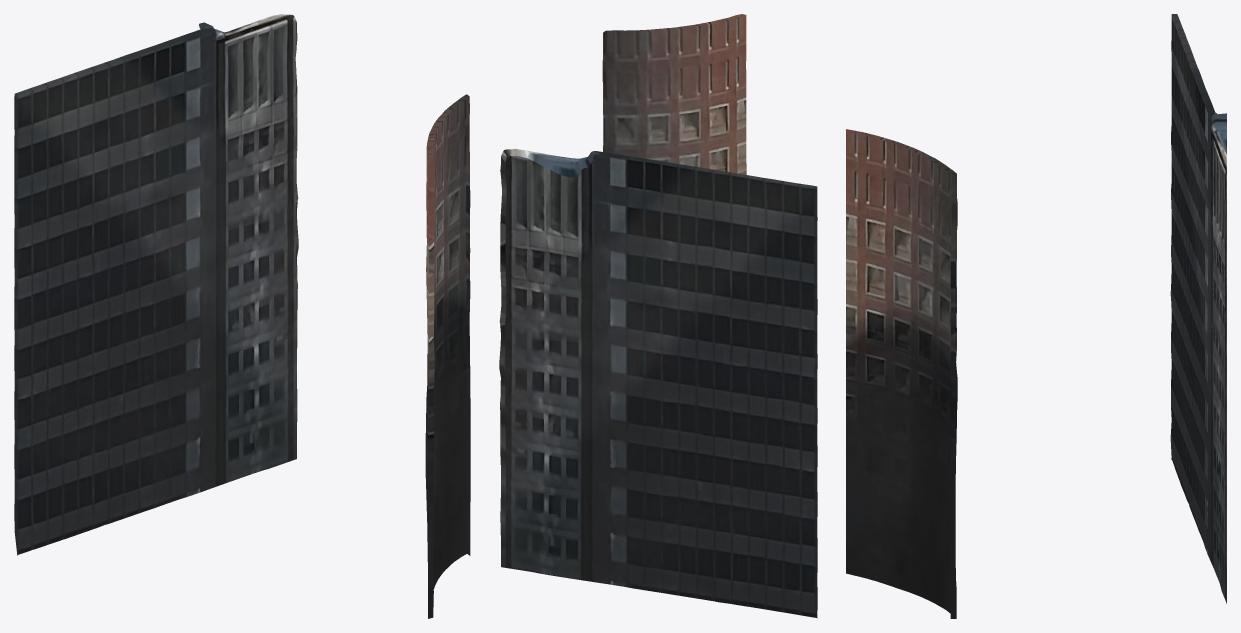
Rendered from z20-167776-405233-h1-yup-uvflip-v3-world.glb.
3 renders of one model, left to right at view 1: azimuth 30°, elevation 25°; view 2: azimuth 150°, elevation 25°; view 3: azimuth 270°, elevation 25°, orthographic. The views are drawn at different scales.
Size of the model in its own units: 30.16 by 39.16 by 30.32.
1 material, 1 textured.
